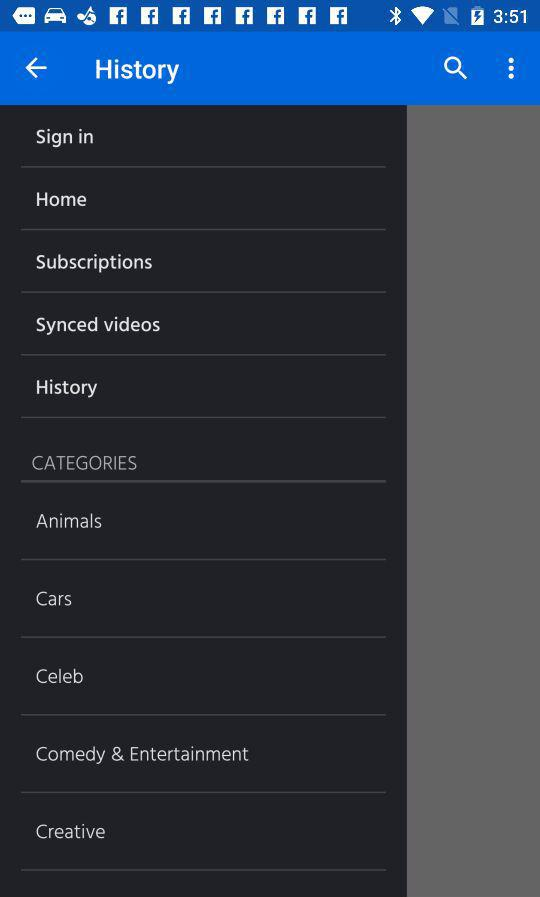Drawer: (1, 106, 408, 896)
Icon: (443, 56, 468, 81), (25, 57, 48, 80), (507, 58, 516, 81)
Text: (37, 746, 249, 765), (37, 317, 161, 336), (37, 254, 153, 274), (96, 59, 180, 85), (32, 455, 138, 472), (37, 379, 98, 399), (37, 823, 106, 840), (37, 129, 94, 149), (36, 513, 102, 529), (37, 192, 87, 208), (37, 668, 84, 684), (36, 591, 73, 607)
Toolbar: (1, 32, 540, 106)
UpperTaskBar: (1, 1, 540, 33)
